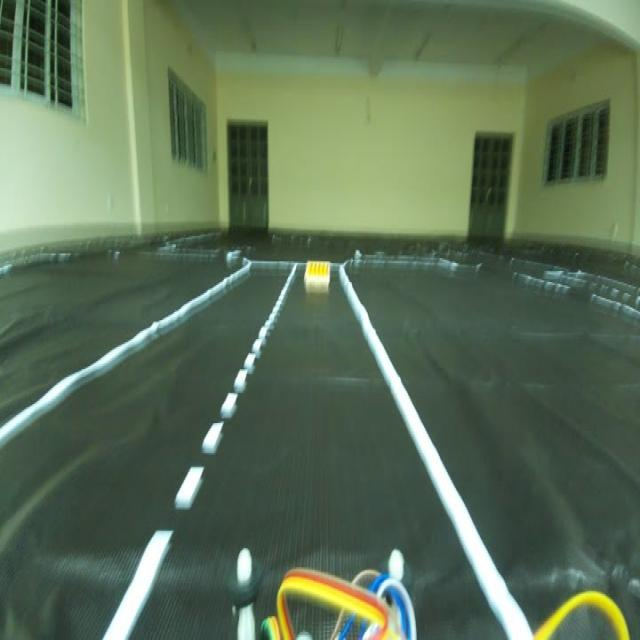roadblock: (302, 255, 334, 296)
